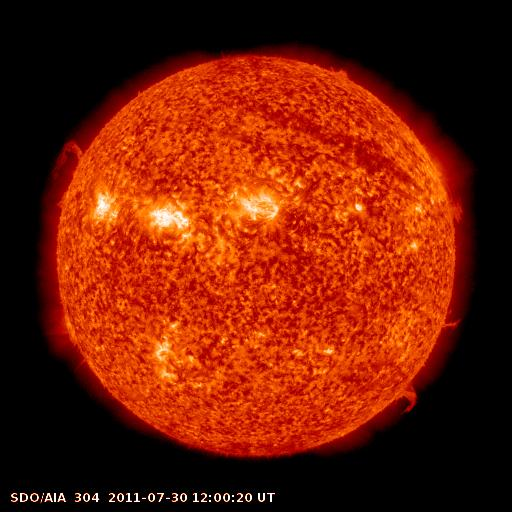prominence: (46, 135, 88, 214), (386, 374, 425, 420), (438, 193, 476, 227), (436, 312, 470, 337), (329, 60, 354, 86)
